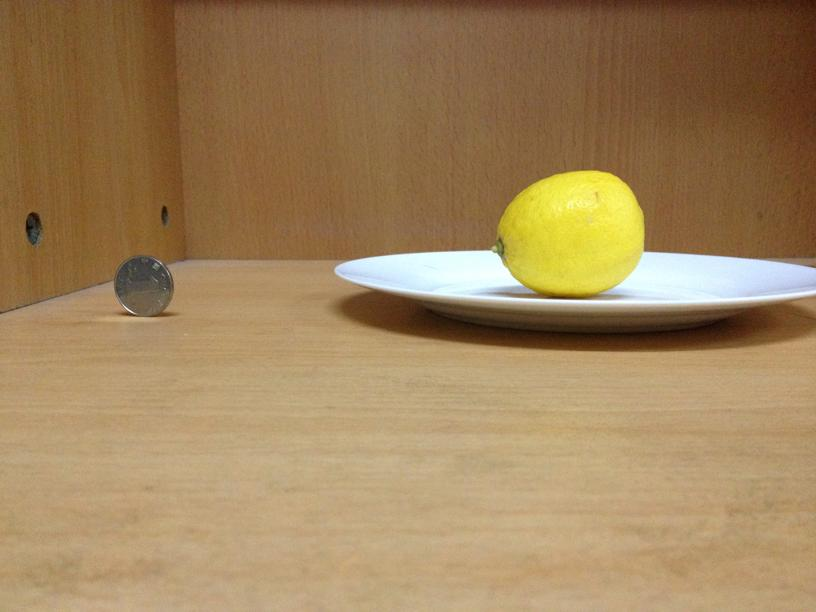coin: (110, 254, 173, 315)
lemon: (496, 171, 643, 296)
